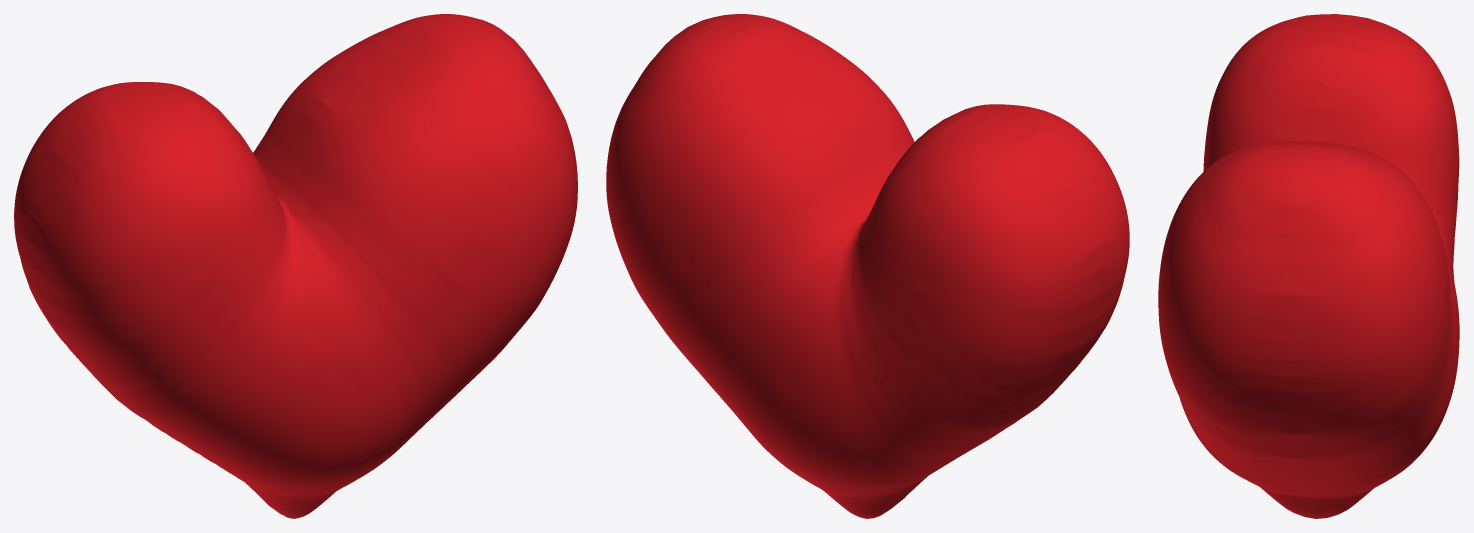
The model's file is heart.fbx.
3 renders of one model, left to right at view 1: azimuth 30°, elevation 25°; view 2: azimuth 150°, elevation 25°; view 3: azimuth 270°, elevation 25°, orthographic. The views are drawn at different scales.
Visible parts, largest first — view 1: root; view 2: root; view 3: root.
Part boxes in pixels (<box>): root: <box>14,14,577,518</box>; root: <box>606,14,1129,518</box>; root: <box>1158,14,1459,518</box>.
Bounding box in the file's own units: 0.1792 × 0.1551 × 0.097.
Materials: 1 (1 with a texture image).
